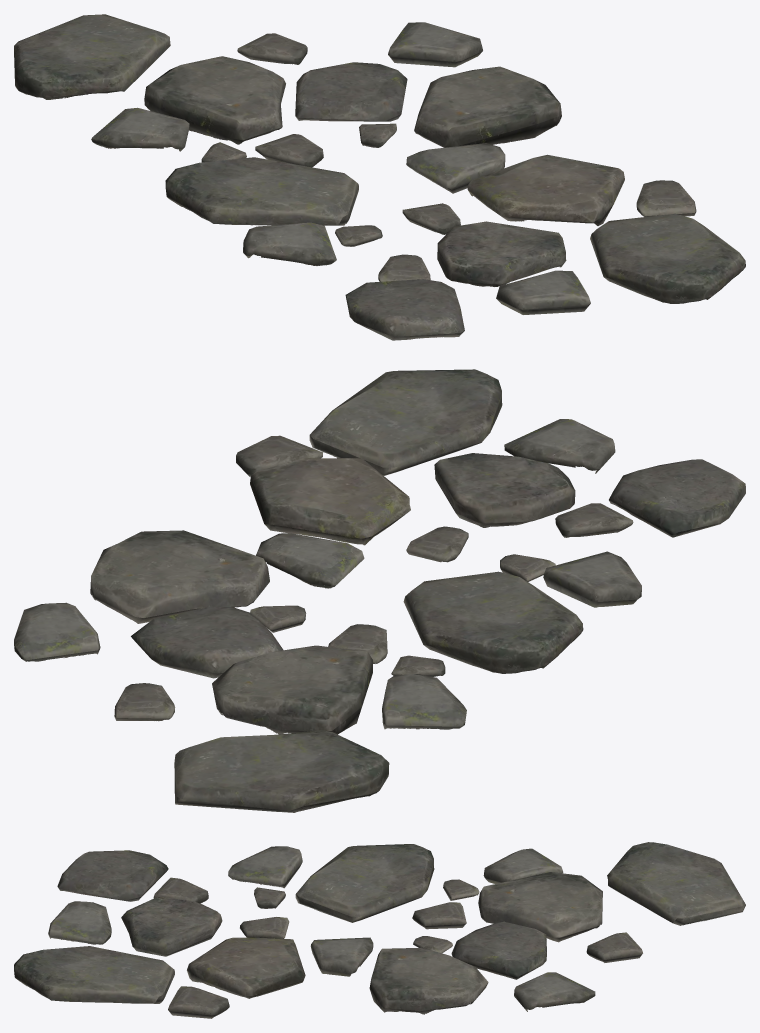
3 renders of one model, top to bottom at view 1: azimuth 30°, elevation 25°; view 2: azimuth 150°, elevation 25°; view 3: azimuth 270°, elevation 25°, orthographic. The views are drawn at different scales.
Visible parts, largest first — view 1: SM_DeathTemple_Cobble_Road_01v3_LOD0; view 2: SM_DeathTemple_Cobble_Road_01v3_LOD0; view 3: SM_DeathTemple_Cobble_Road_01v3_LOD0.
Boxes of the visible parts, left/top/right/bottom form: SM_DeathTemple_Cobble_Road_01v3_LOD0: left=14, top=14, right=745, bottom=340; SM_DeathTemple_Cobble_Road_01v3_LOD0: left=14, top=369, right=745, bottom=812; SM_DeathTemple_Cobble_Road_01v3_LOD0: left=14, top=842, right=745, bottom=1018.
Size of the model in its own units: 1.71 by 0.1297 by 3.3.
1 material, 1 textured.
